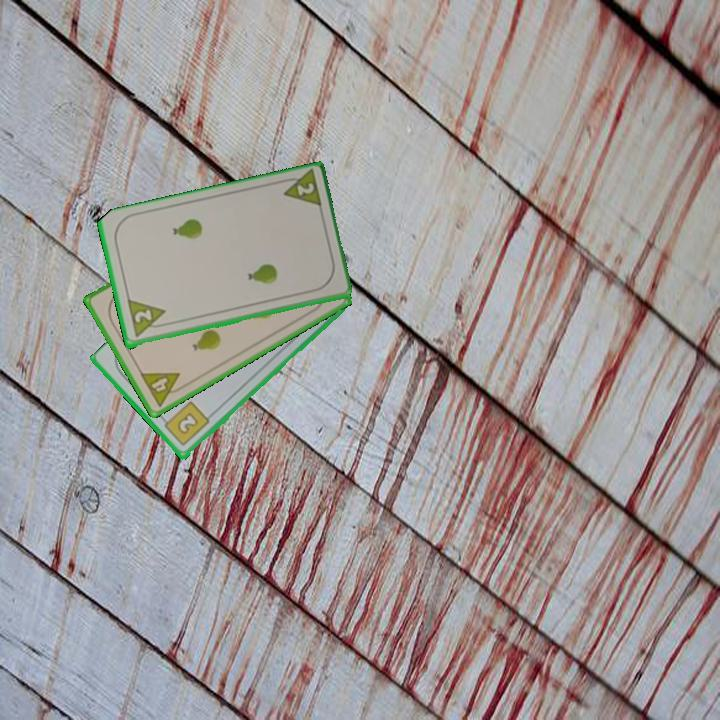2b: (158, 398, 213, 449)
2p: (276, 168, 324, 212), (124, 297, 170, 341)
4p: (136, 369, 189, 409)
